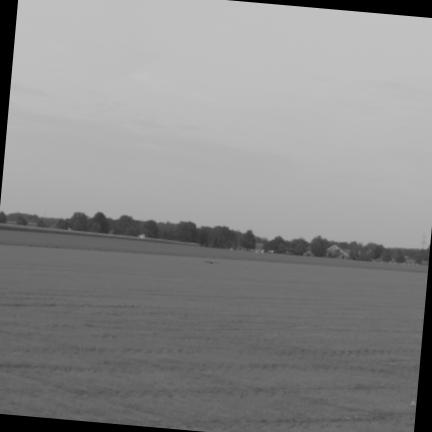Shahed: (205, 261, 219, 264)
